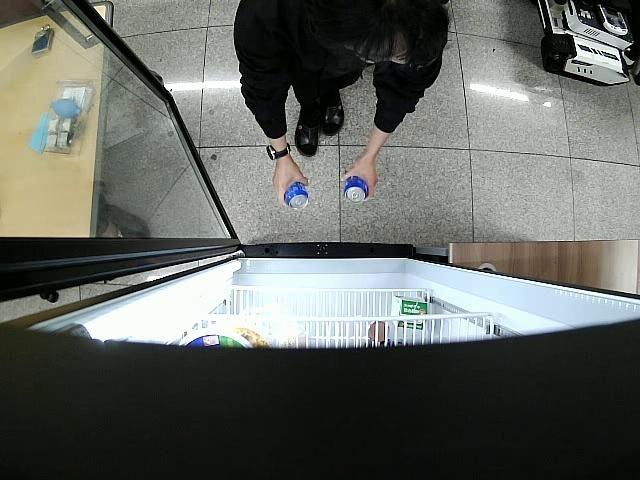13_pocariSweat: (280, 180, 310, 212), (342, 174, 368, 203)
